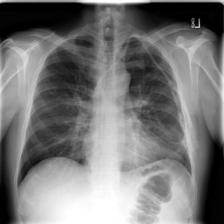normal: (13, 30, 198, 190)
